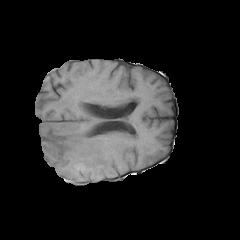glioma: (39, 96, 139, 179)
